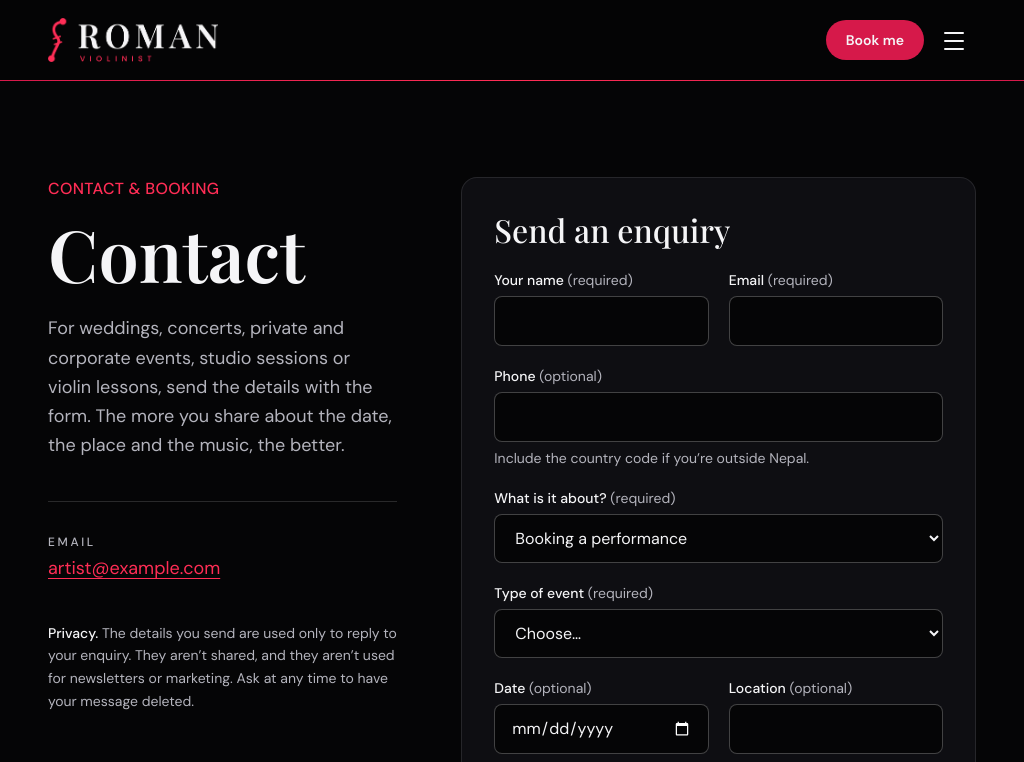
Scenario: contact page › gets a fresh token when the form was sent too fast or left open too long
Type "Sita Sharma" into the field labelled "Your name (required)" at (601, 321), box [494,296,709,346]
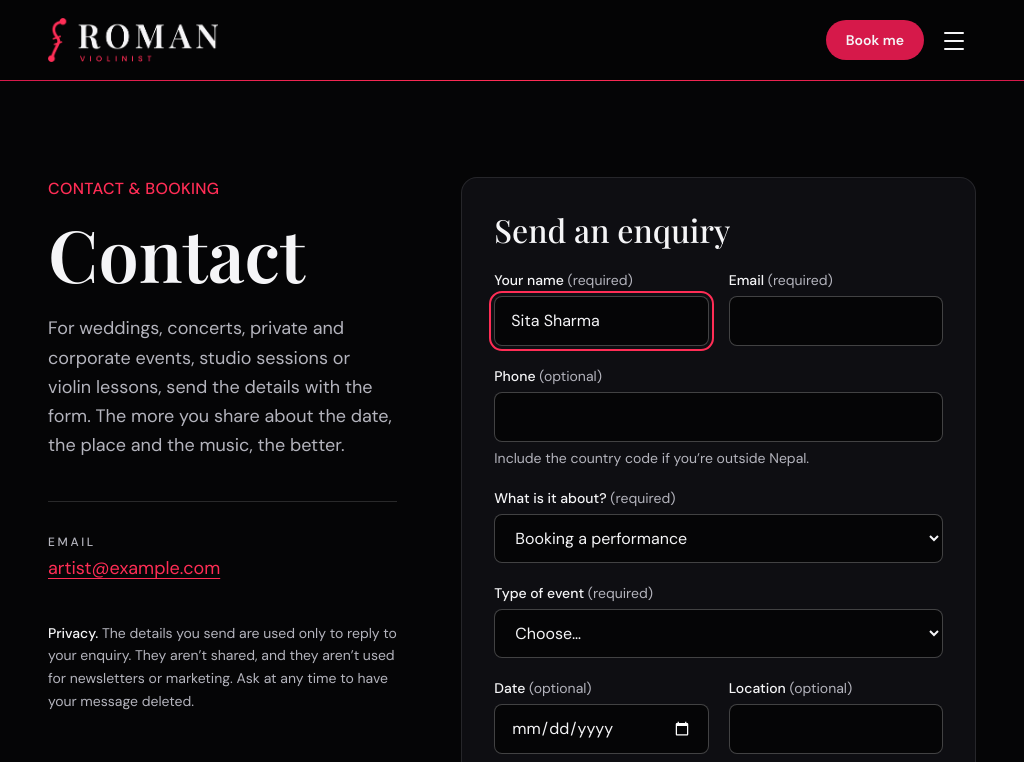
Type "sita@example.com" into the field labelled "Email (required)" at (836, 321), box [729,296,943,346]
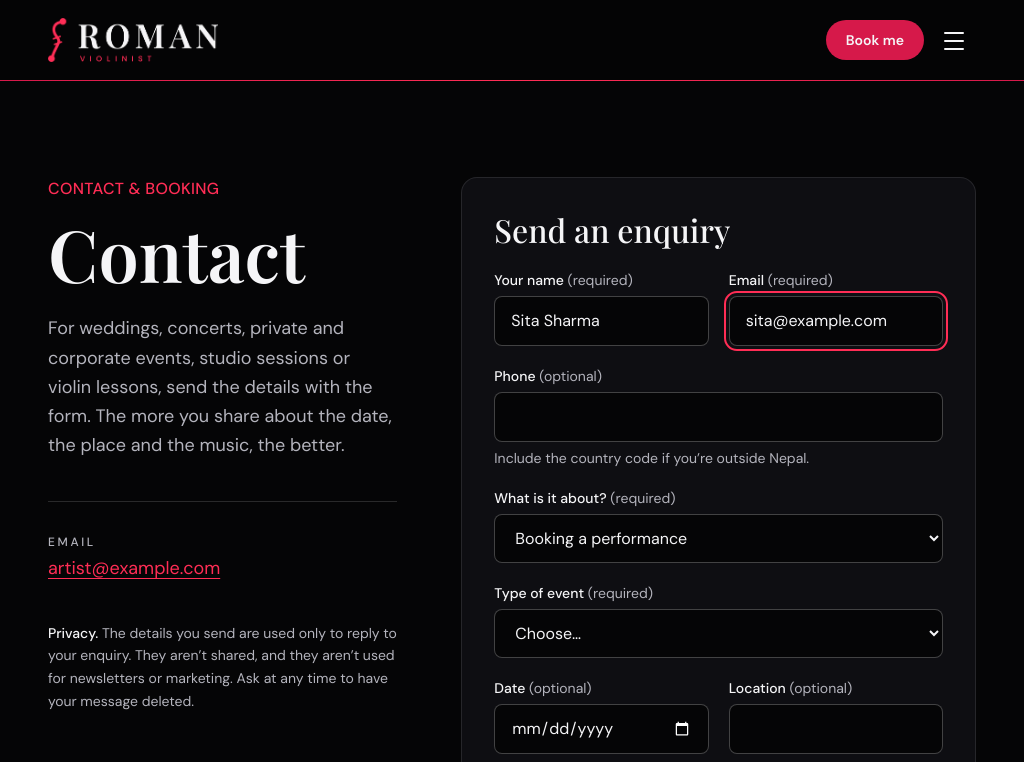
Select "Wedding" in the dropdown labelled "Type of event (required)" at (719, 634), box [494,609,943,658]
(page scrolled)
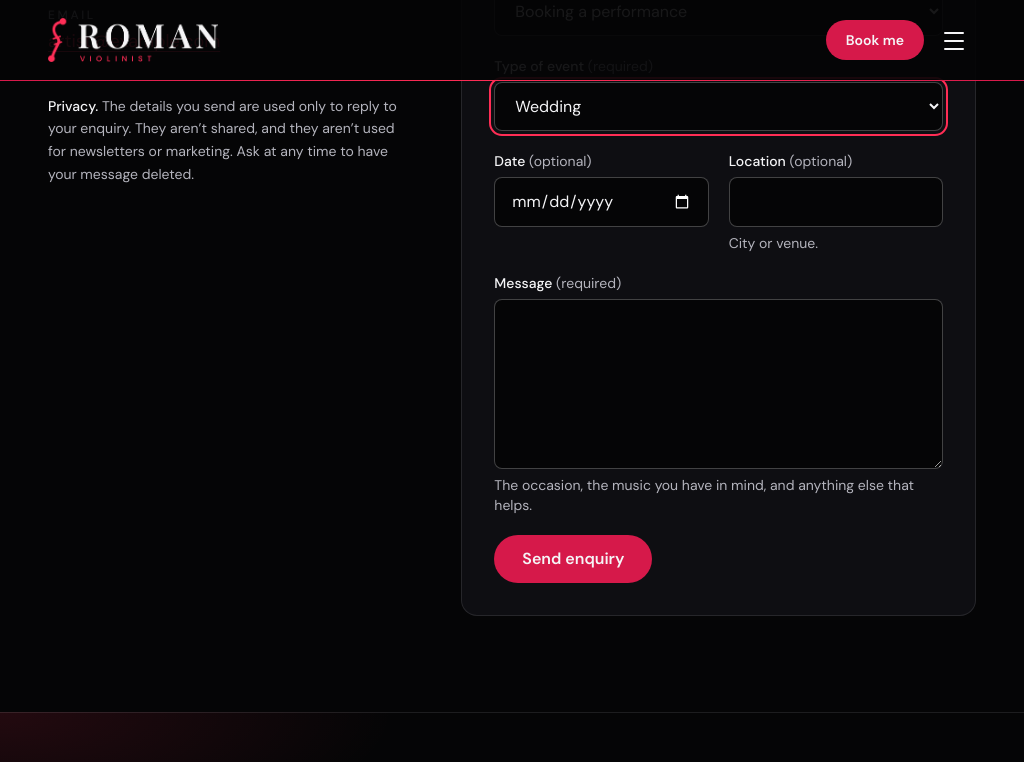
Type "Live violin for our wedding ceremony, please." into the text box labelled "Message (required)" at (719, 384), box [494,299,943,469]
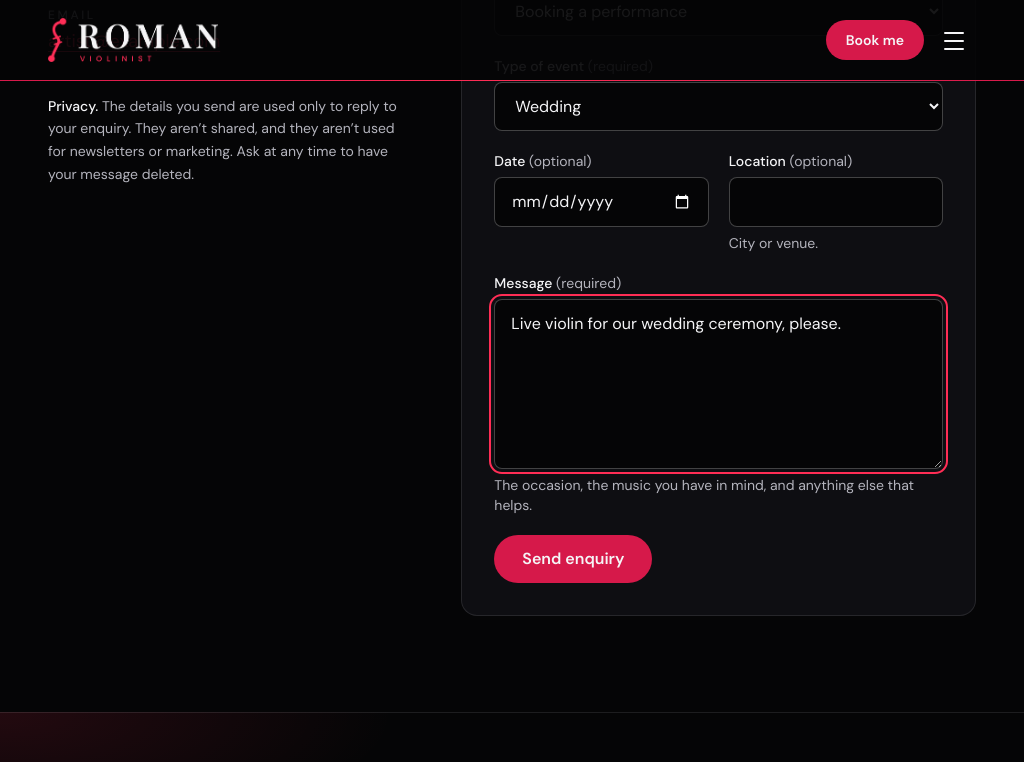
Click the button "Send enquiry" at (573, 559), box [494,535,652,583]
(page scrolled)
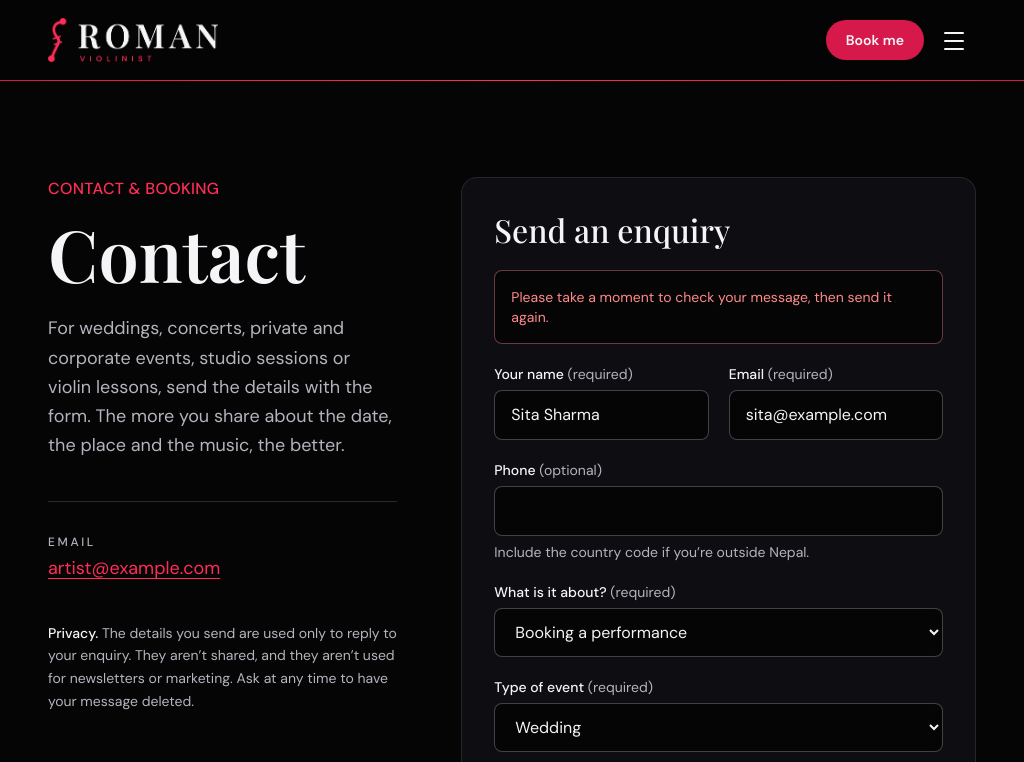
Expected: the text "Please take a moment to check your message, then send it again." is shown, [494,270,943,344]
